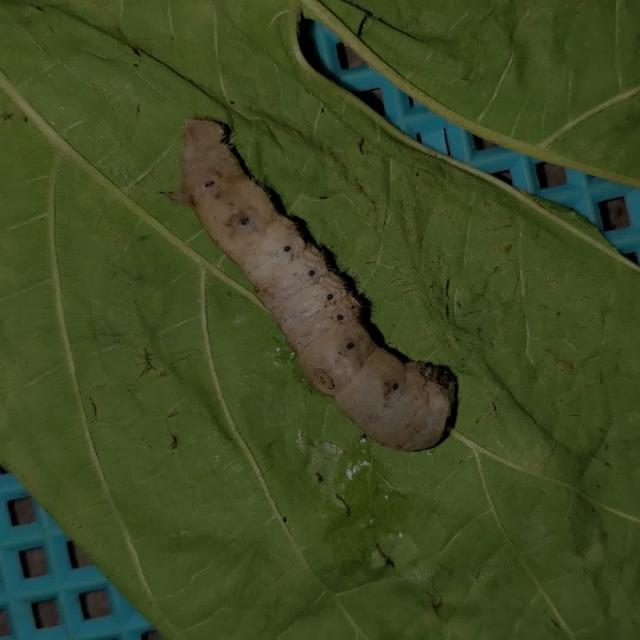Grasserie: (125, 74, 508, 487)
